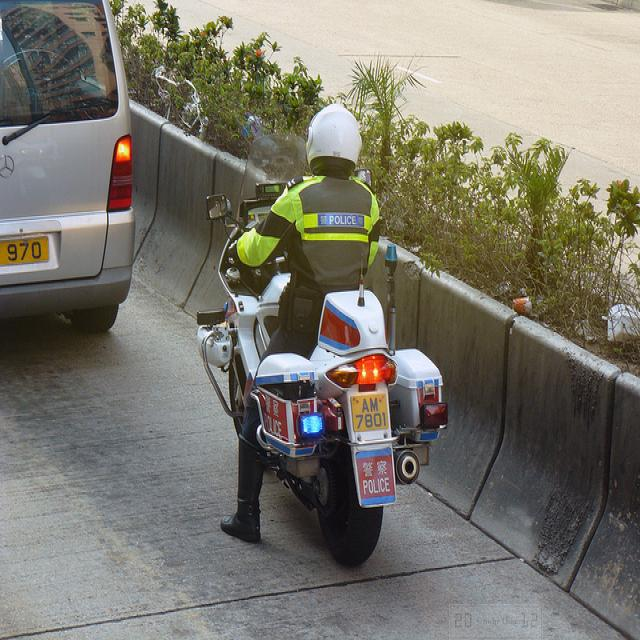motor: (200, 200, 449, 567)
